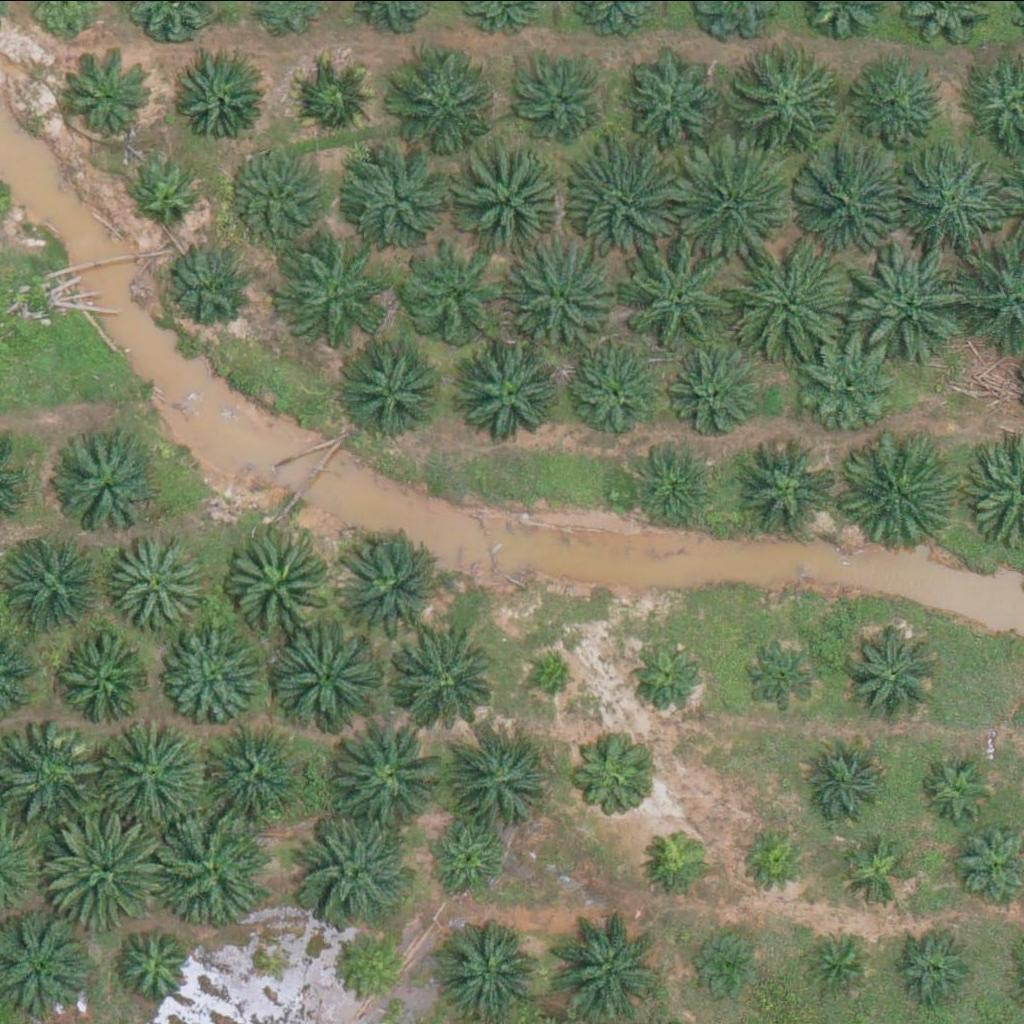Kelapa_Sawit: (838, 433, 952, 546), (855, 249, 968, 362), (676, 140, 789, 253), (565, 140, 678, 253), (447, 141, 560, 254), (332, 140, 445, 253), (507, 243, 620, 356), (736, 241, 849, 354), (272, 624, 385, 737), (389, 627, 502, 740), (153, 809, 266, 922), (301, 812, 414, 925), (893, 145, 1007, 257), (790, 137, 904, 249), (331, 721, 445, 833), (90, 717, 204, 829), (42, 815, 156, 927), (550, 908, 663, 1020), (391, 45, 504, 157), (741, 43, 854, 155), (621, 237, 734, 349), (224, 529, 337, 641), (332, 532, 445, 644), (441, 716, 554, 828), (844, 625, 945, 725), (435, 918, 536, 1018), (629, 54, 730, 154), (289, 252, 390, 352), (401, 246, 502, 346), (555, 340, 656, 440), (463, 340, 564, 440), (337, 334, 438, 434), (735, 438, 836, 538), (61, 437, 162, 537), (110, 530, 211, 630), (55, 632, 156, 732), (163, 625, 264, 725), (224, 145, 324, 245), (798, 333, 898, 433), (657, 337, 757, 437), (12, 532, 112, 632), (201, 718, 301, 818), (738, 628, 827, 716), (855, 63, 943, 151), (894, 922, 982, 1010), (427, 813, 515, 901), (165, 242, 253, 330), (564, 728, 652, 816), (803, 734, 891, 822), (69, 52, 157, 139), (174, 56, 262, 143), (620, 631, 708, 718), (292, 56, 380, 143), (513, 59, 601, 146), (623, 444, 711, 531), (112, 924, 200, 1011), (329, 929, 405, 1004), (691, 926, 767, 1001), (131, 152, 207, 227), (803, 928, 879, 1003), (641, 821, 716, 896), (841, 836, 916, 911), (925, 748, 1000, 823), (737, 821, 812, 896), (535, 649, 585, 699)
